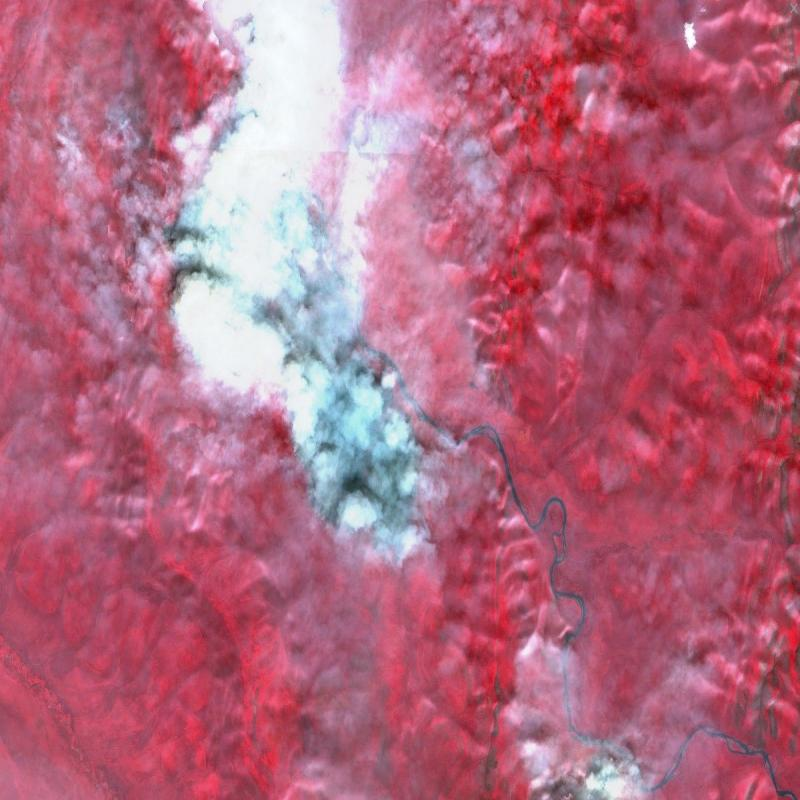fire: (168, 268, 427, 559)
